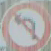Don't turn left: (4, 1, 50, 48)
